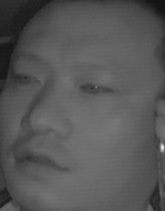eye: (77, 74, 112, 99), (12, 68, 42, 90)
mouth: (13, 140, 69, 178)
